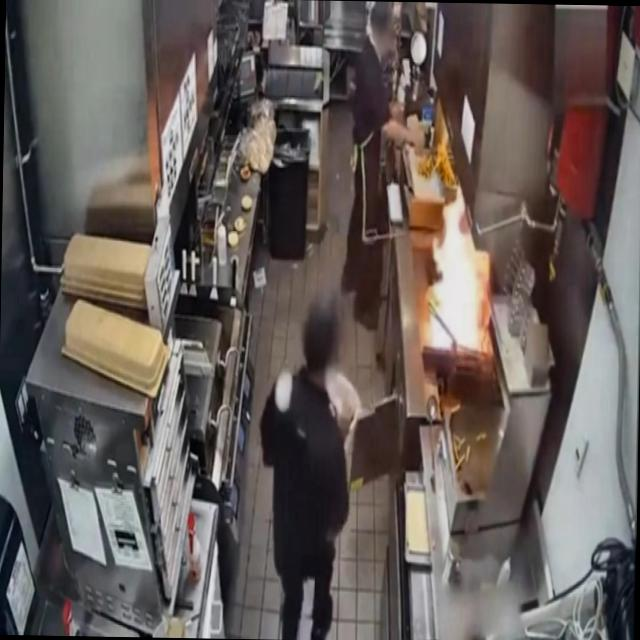fire: (412, 174, 499, 375)
